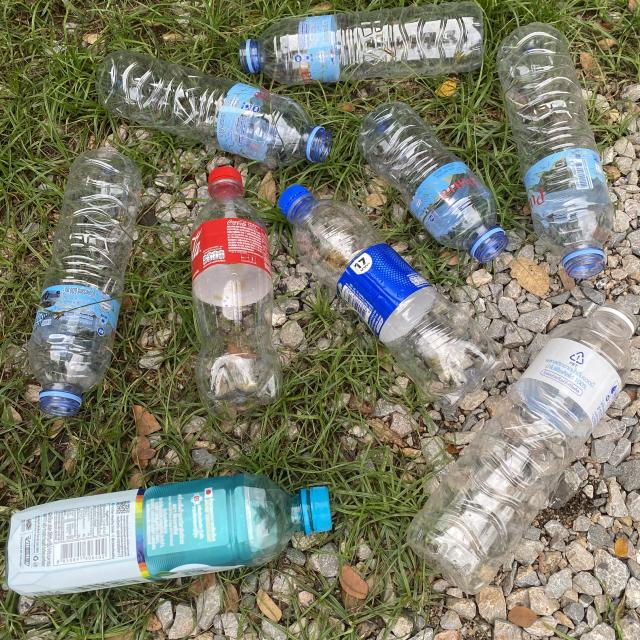plastik: (407, 304, 636, 594), (280, 185, 500, 404), (7, 474, 331, 596), (28, 149, 142, 416), (496, 22, 613, 279), (96, 51, 332, 167), (358, 102, 507, 261), (191, 167, 282, 417), (239, 1, 483, 85)
